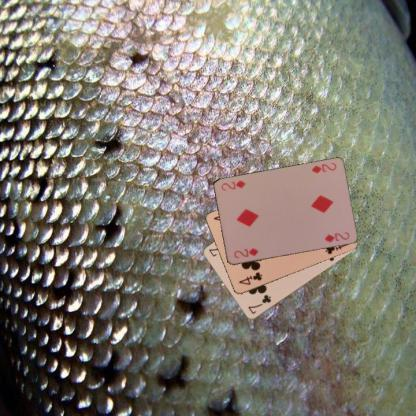2d: (308, 160, 338, 175), (231, 246, 260, 260)
4c: (236, 269, 263, 287)
7c: (246, 292, 272, 315)
